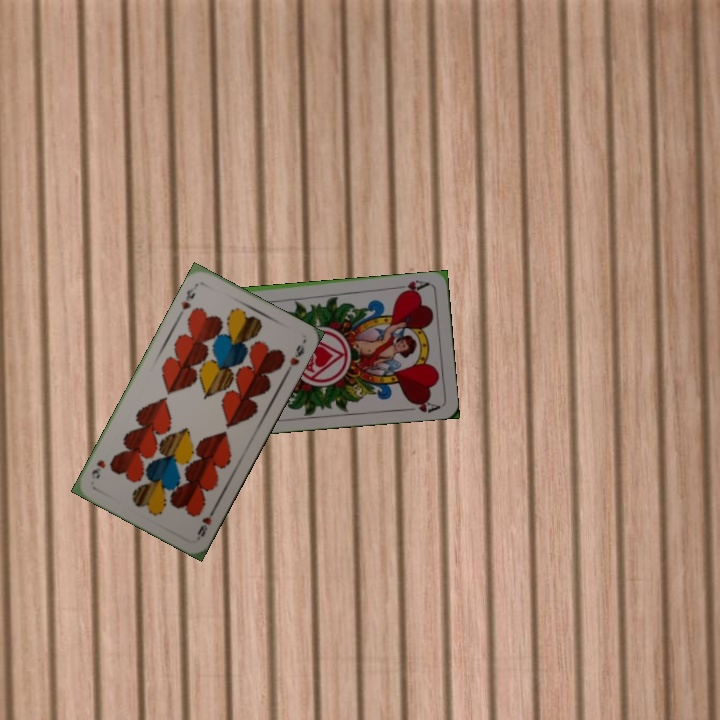H9: (193, 504, 218, 542), (176, 280, 200, 313)
HA: (392, 276, 432, 297)
